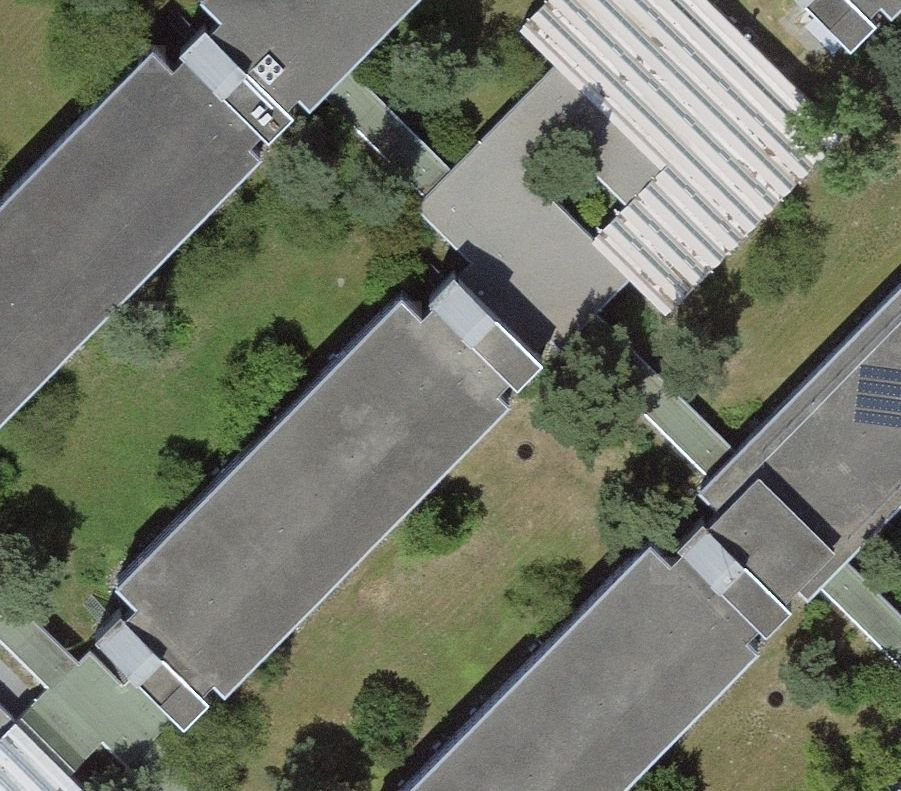solar: (853, 362, 901, 428)
